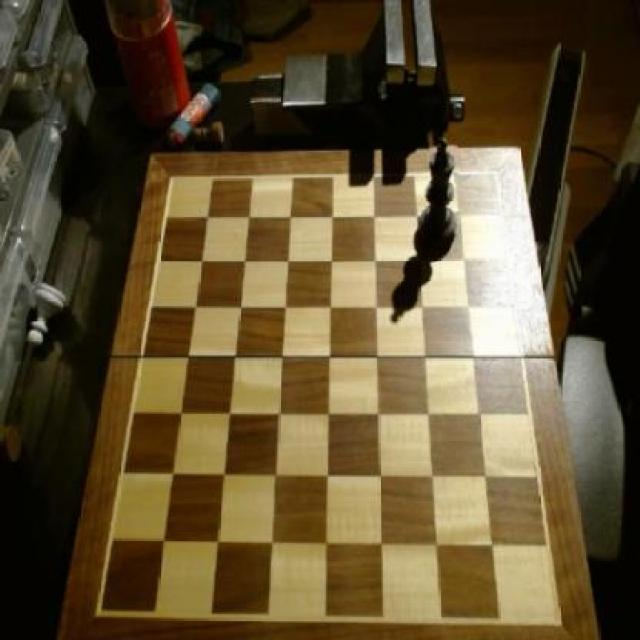black-bishop: (418, 132, 462, 258)
